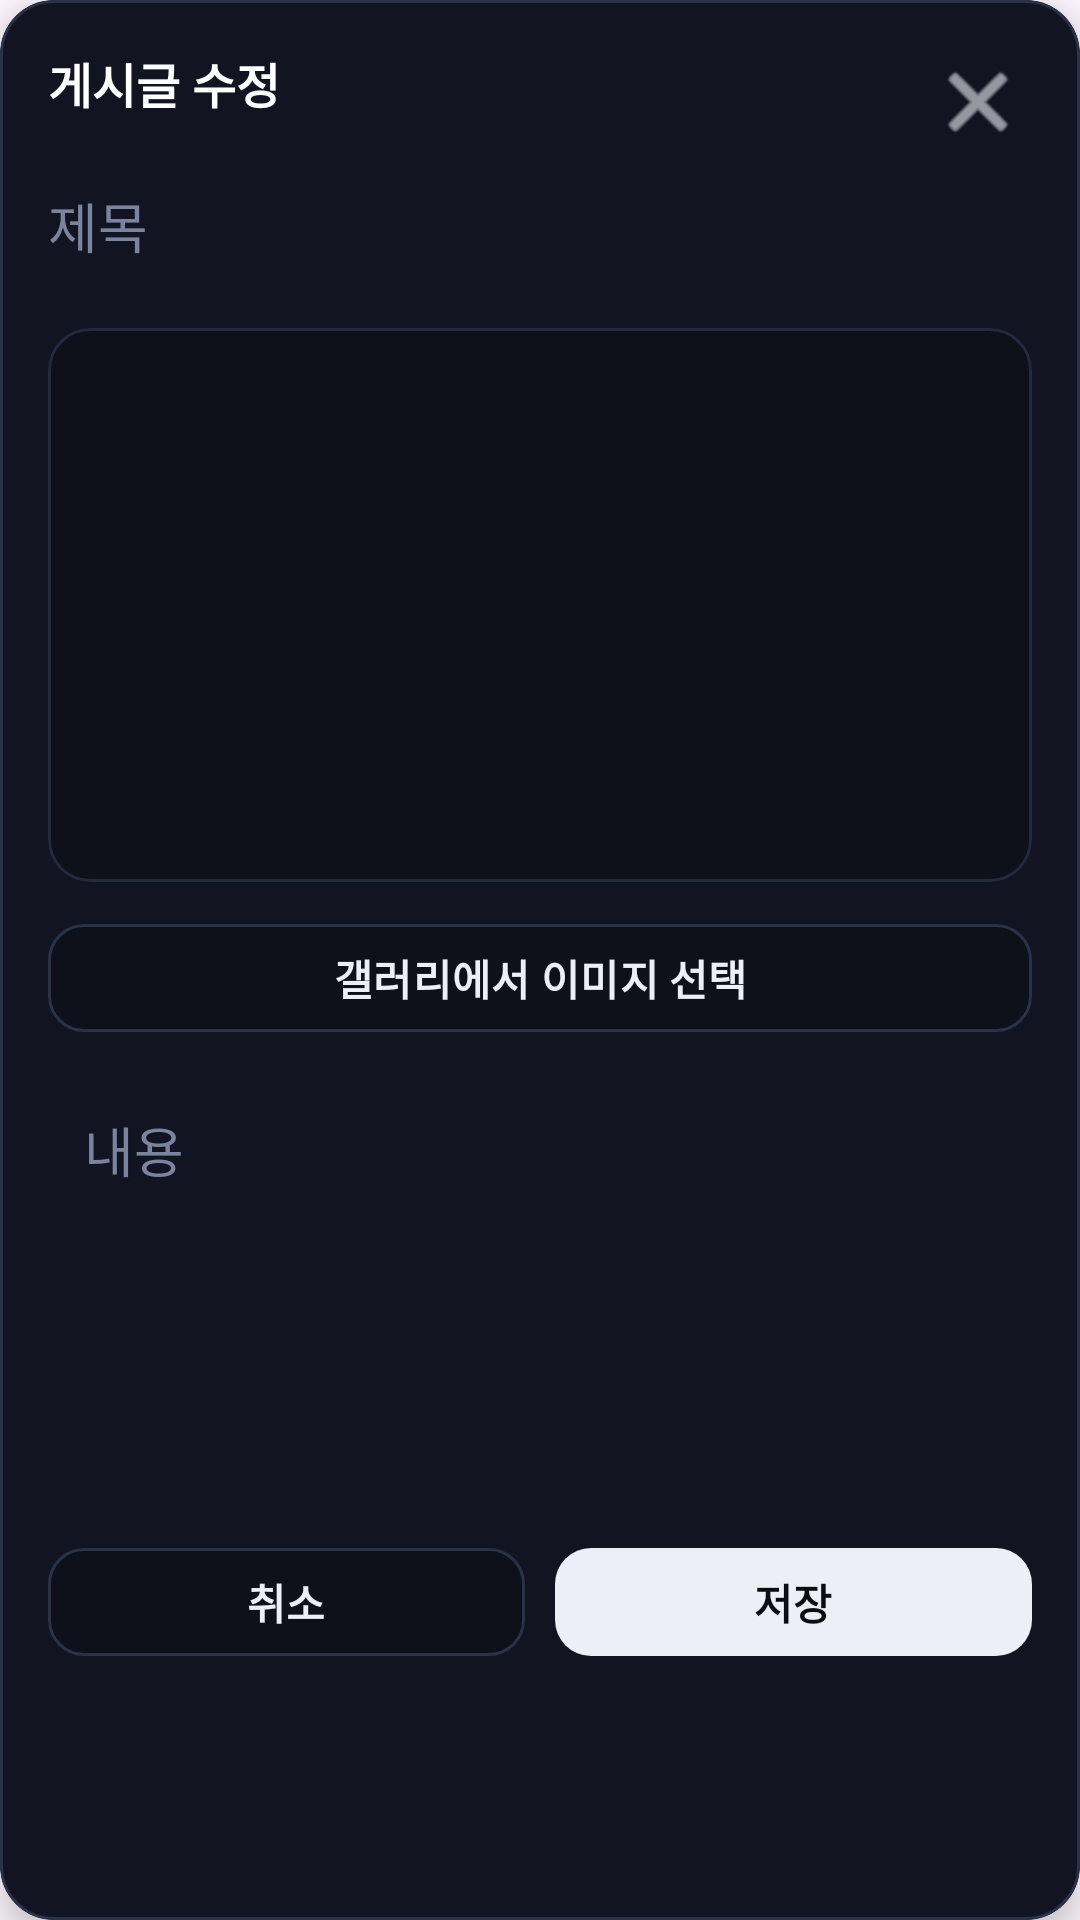

Icon bounding boxes for this 1080px×1920px phone screenshot, format Rect(x1, y1, x2, y2):
close clear cancel: Rect(948, 72, 1008, 132)
